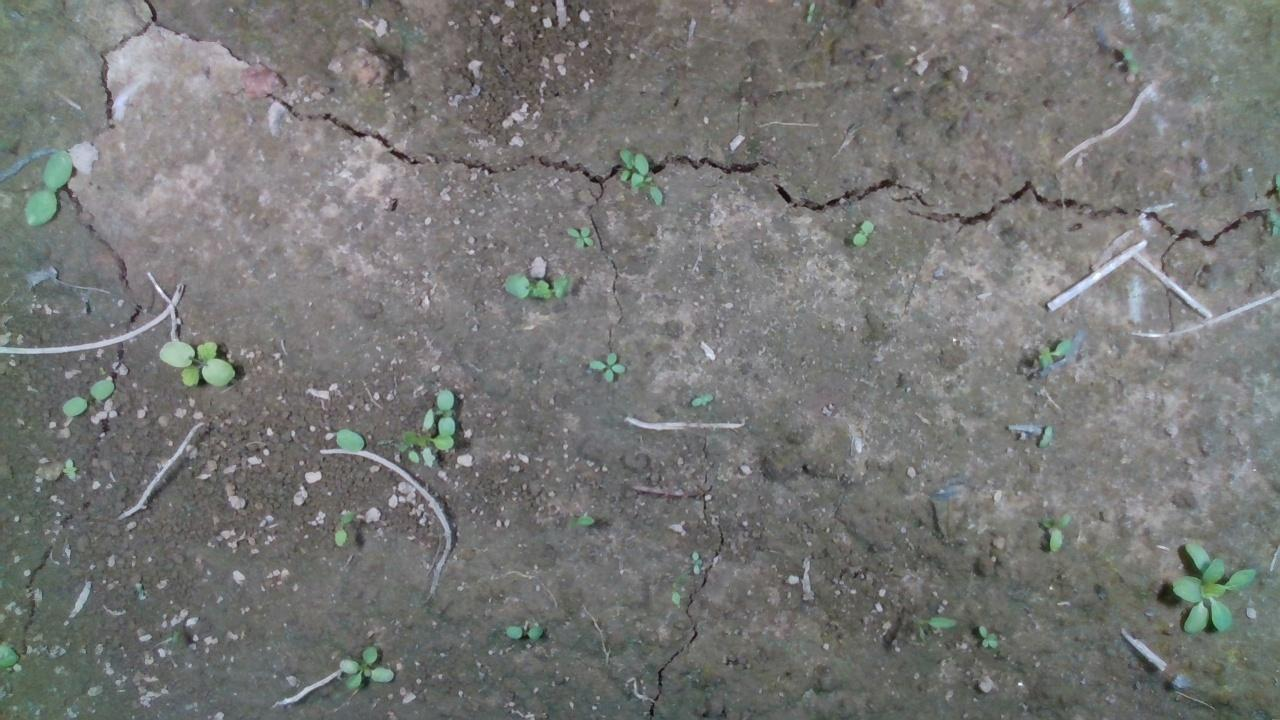weed: (21, 146, 72, 226), (157, 338, 234, 389), (337, 643, 395, 689), (58, 376, 115, 418), (584, 351, 626, 382), (563, 225, 594, 250), (503, 623, 544, 641), (852, 217, 875, 246), (976, 623, 998, 648)
